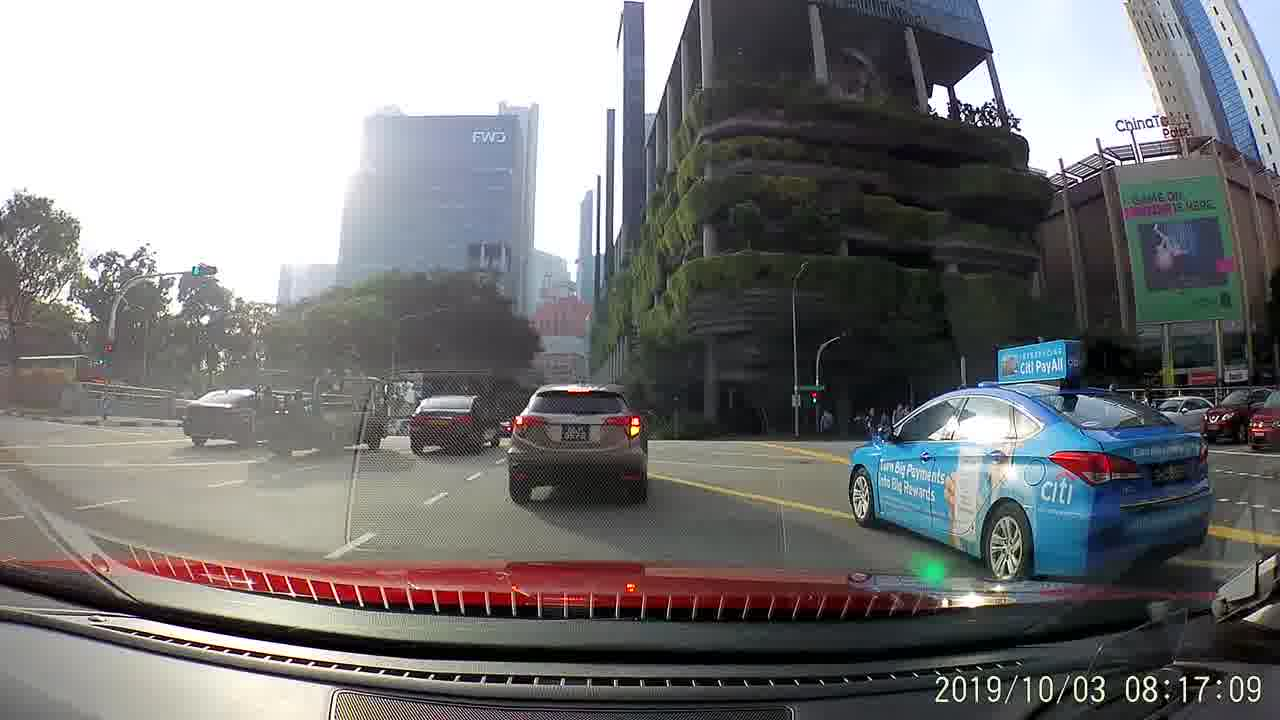bus: (14, 352, 92, 386)
car: (846, 346, 1211, 579), (501, 382, 653, 511), (181, 382, 266, 452), (410, 391, 501, 453), (1201, 388, 1279, 440), (1156, 396, 1217, 437), (1249, 384, 1279, 451)
